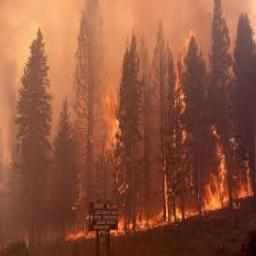Low smoke: (2, 2, 99, 177), (101, 1, 255, 88)
Medium fire: (168, 32, 204, 220), (105, 79, 133, 236)
Small fire: (65, 210, 176, 241), (204, 163, 255, 210)
